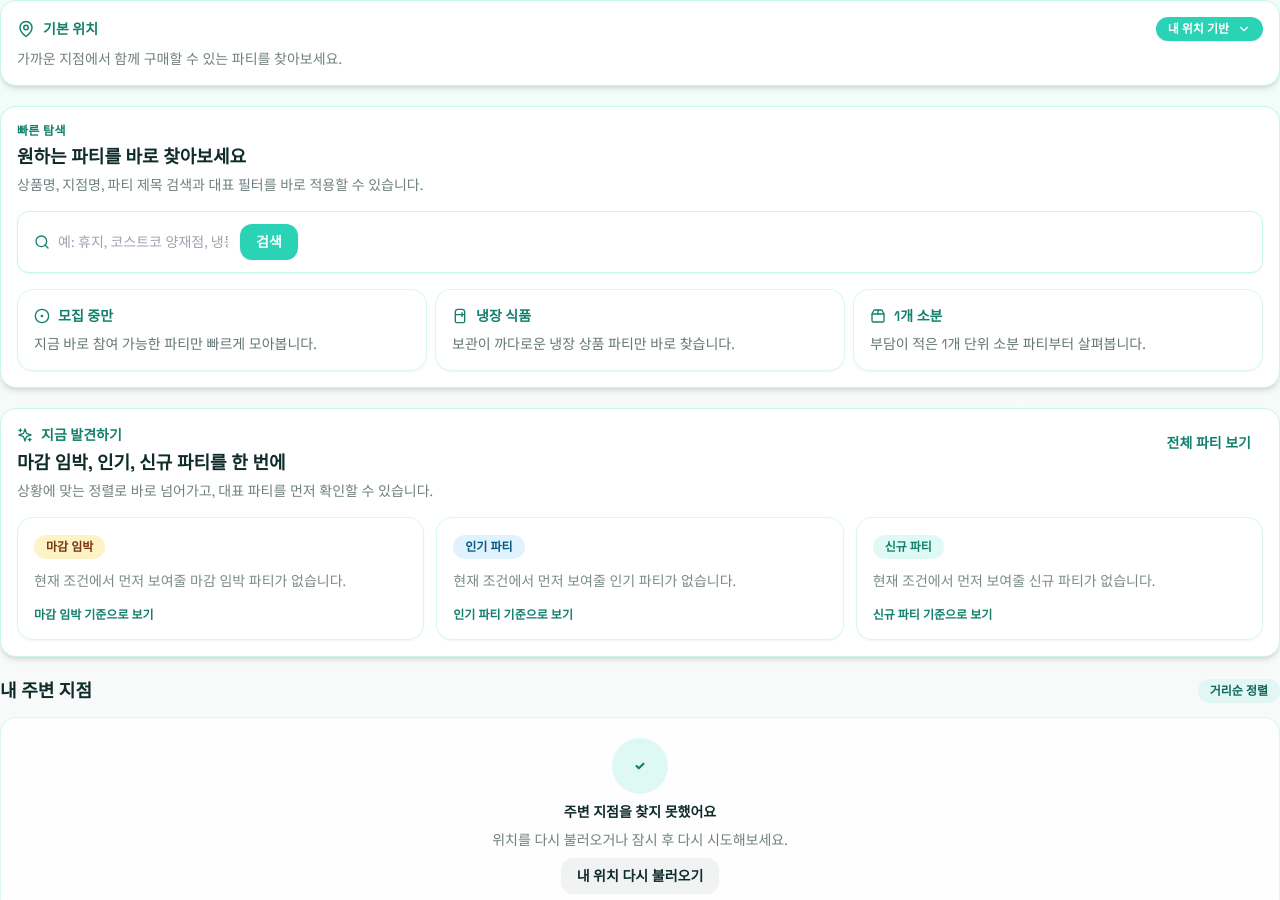
Test case: Home quick discovery › 빠른_필터_버튼으로_대표_조건을_즉시_적용한다
The width and height of the screenshot is (1280, 900).
Click the button "냉장 식품 보관이 까다로운 냉장 상품 파티만 바로 찾습니다." at (504, 316), box left=435, top=289, right=845, bottom=371
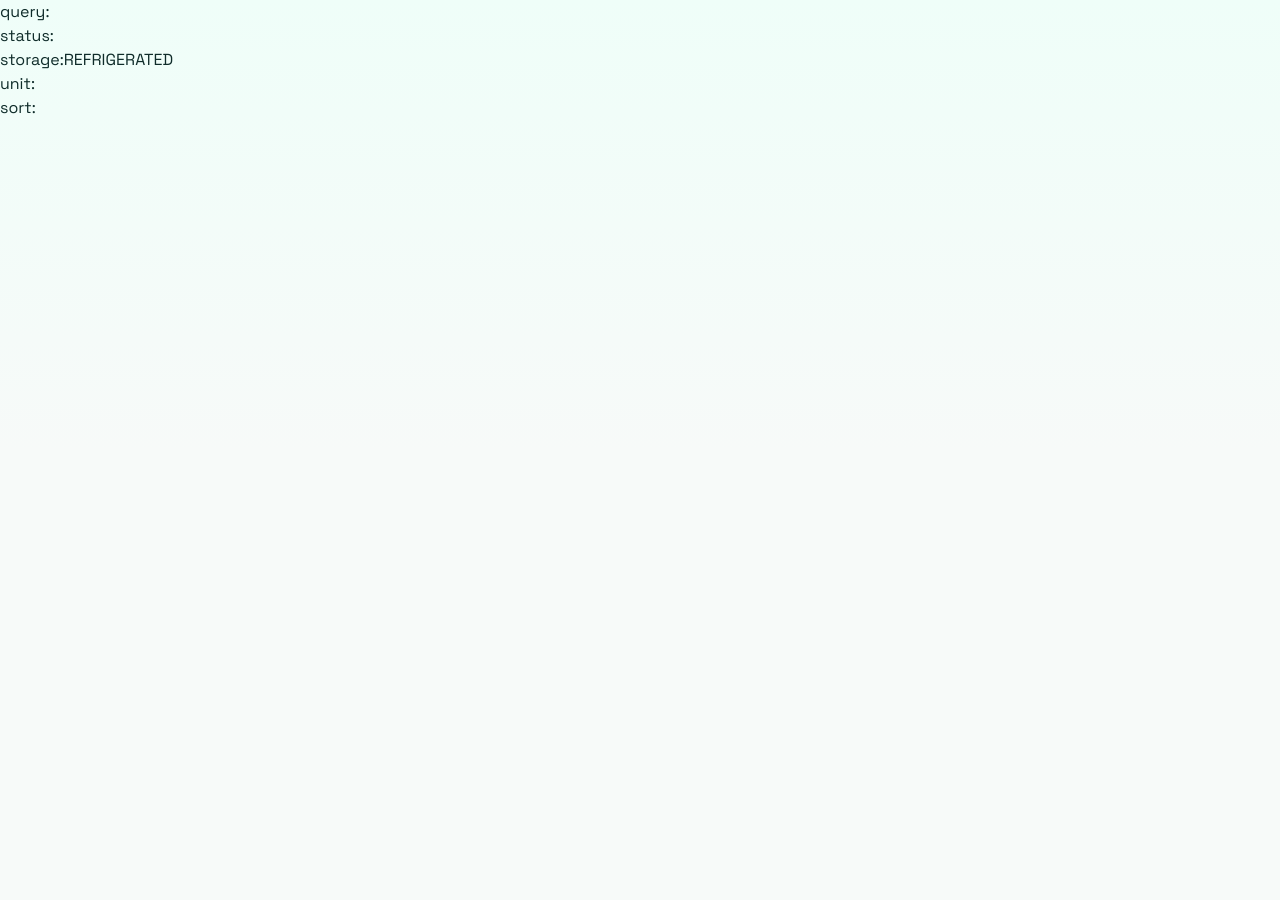
Expected: the text "storage:REFRIGERATED" is shown, left=0, top=49, right=173, bottom=70
Expected: the text "query:" is shown, left=0, top=1, right=50, bottom=22
